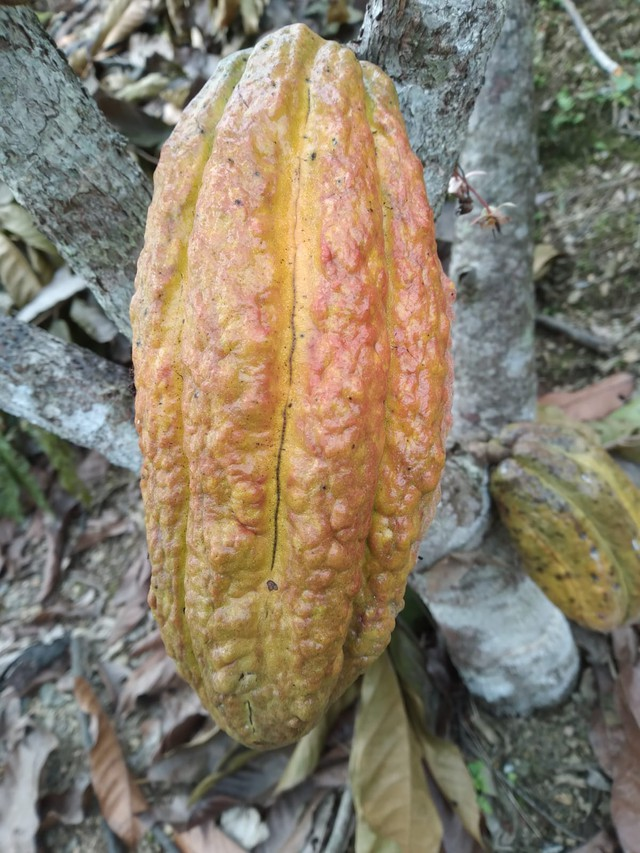Health: (123, 17, 463, 757)
